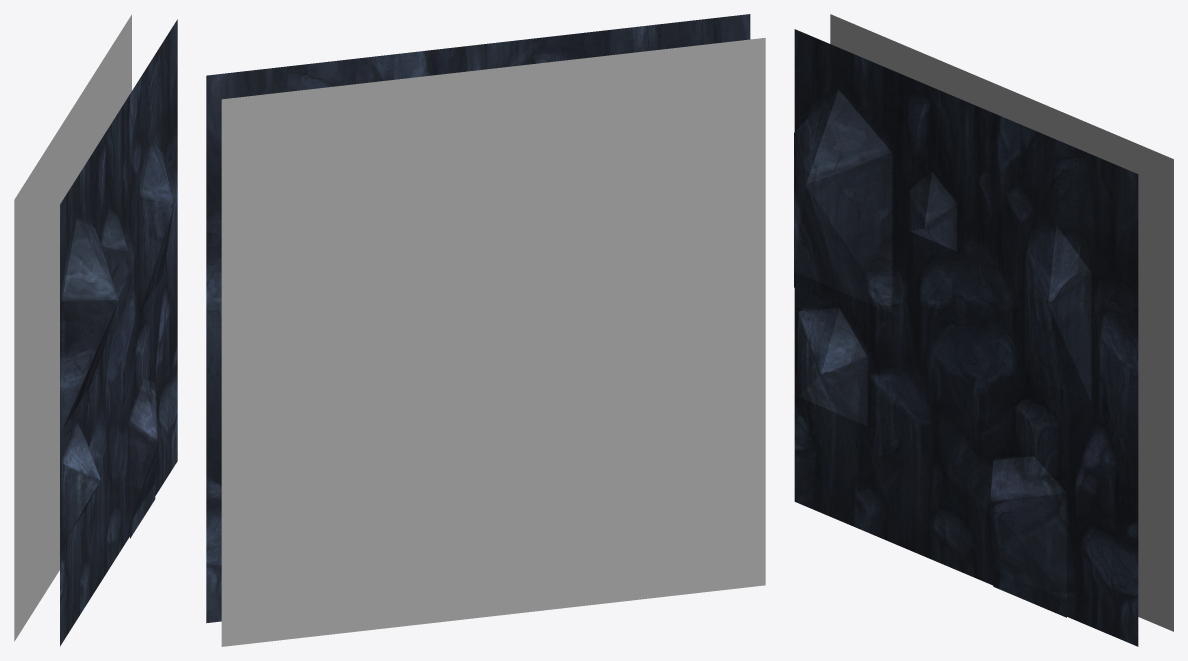
Rendered from mine_wall_diagonal_01.fbx.
3 views of the same model, side by side, from view 1: azimuth 30°, elevation 25°; view 2: azimuth 150°, elevation 25°; view 3: azimuth 270°, elevation 25° (orthographic). The views are drawn at different scales.
Visible parts, largest first — view 1: obj1.001; view 2: obj1.001; view 3: obj1.001.
Part boxes in pixels (<box>): obj1.001: <box>14,14,177,646</box>; obj1.001: <box>206,14,765,646</box>; obj1.001: <box>794,14,1173,646</box>.
Bounding box in the file's own units: 4 × 5.5 × 4.01.
